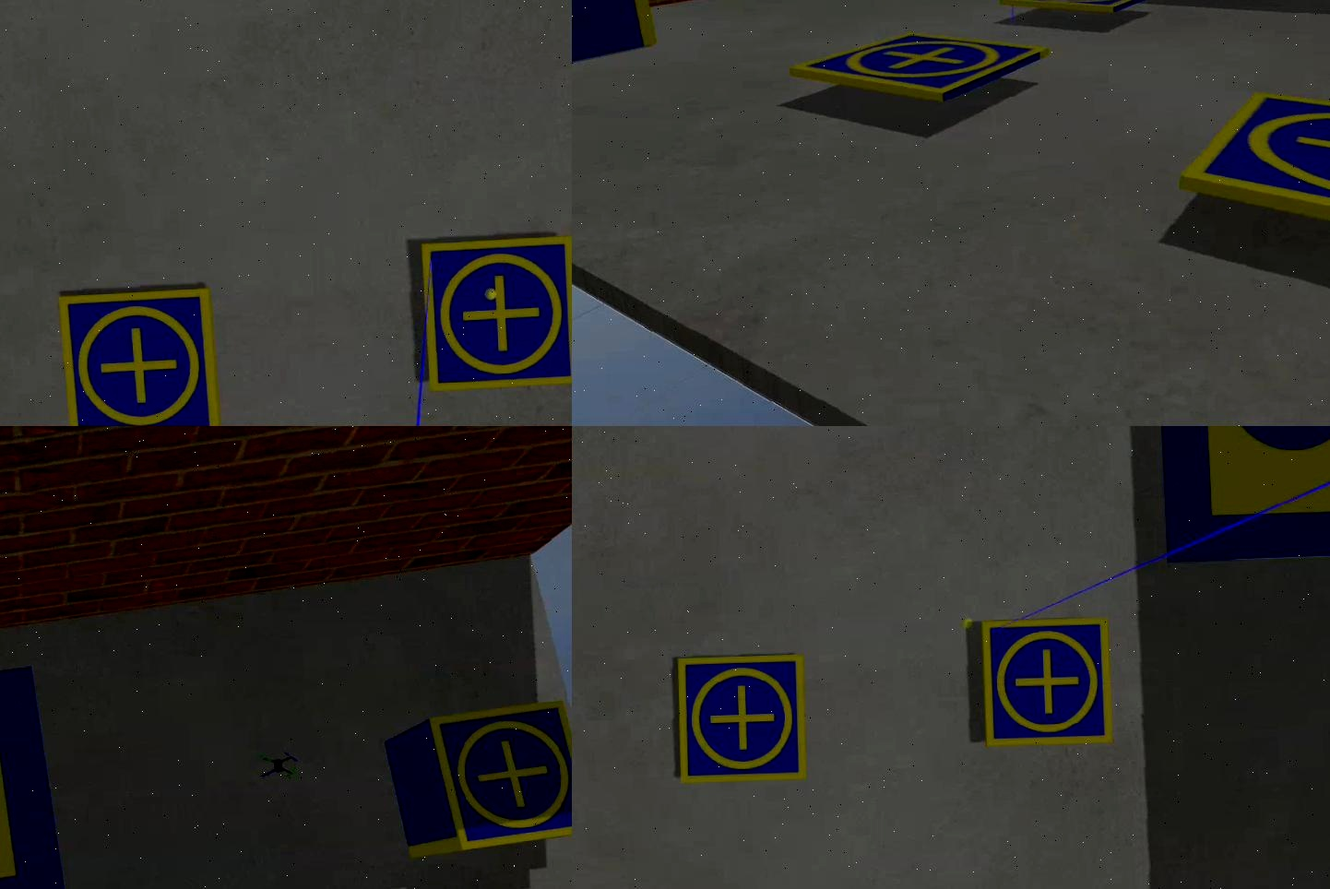large_base: (1160, 426, 1330, 564)
small_base: (1176, 78, 1330, 301), (419, 234, 573, 397), (57, 284, 222, 426), (423, 701, 573, 857), (791, 25, 1047, 105), (982, 621, 1117, 749), (678, 654, 806, 788), (1008, 1, 1161, 21)
